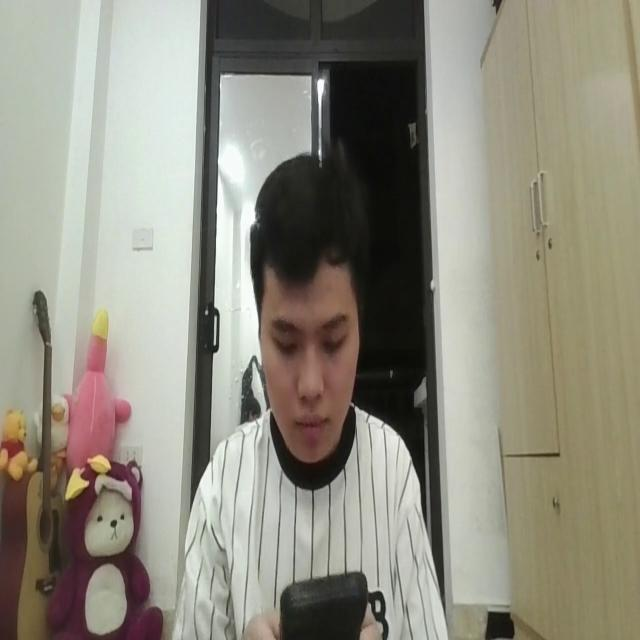phone: (279, 557, 369, 640)
student: (168, 146, 449, 640)
